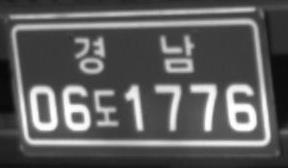0: (28, 84, 59, 132)
1: (122, 83, 146, 132)
6: (224, 81, 258, 133), (60, 83, 91, 132)
7: (152, 82, 183, 133), (189, 82, 219, 133)
경남_D: (72, 33, 196, 76)
도: (93, 87, 119, 128)
